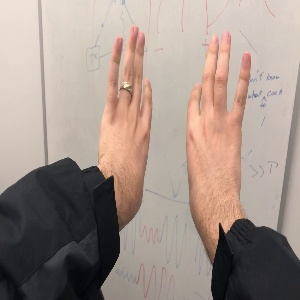hand: (187, 32, 251, 210), (99, 25, 153, 201)
